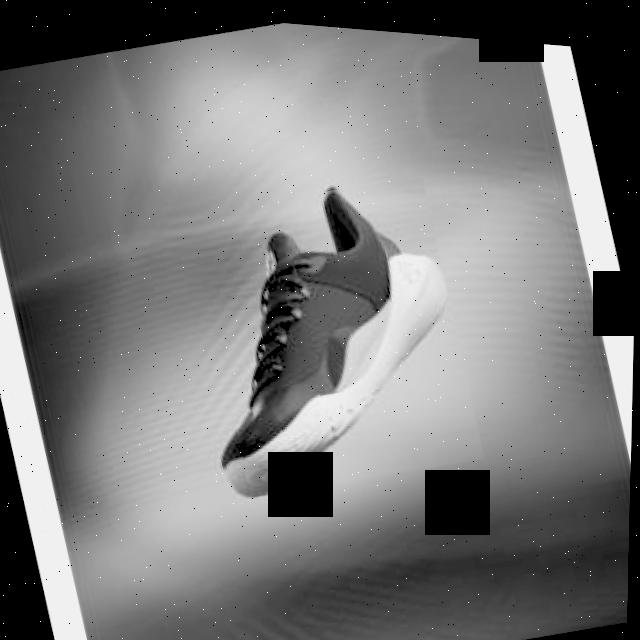shoe: (161, 147, 491, 513)
